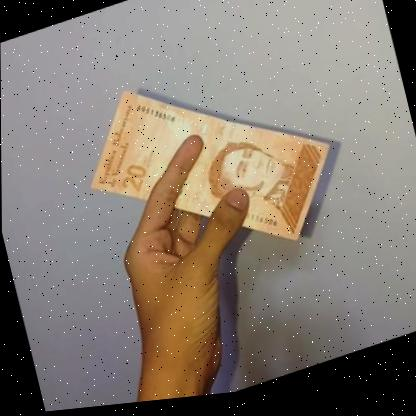twenty-front-vef: (68, 32, 349, 307)
